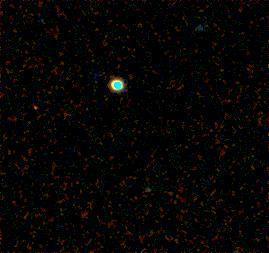star: (20, 93, 50, 123)
